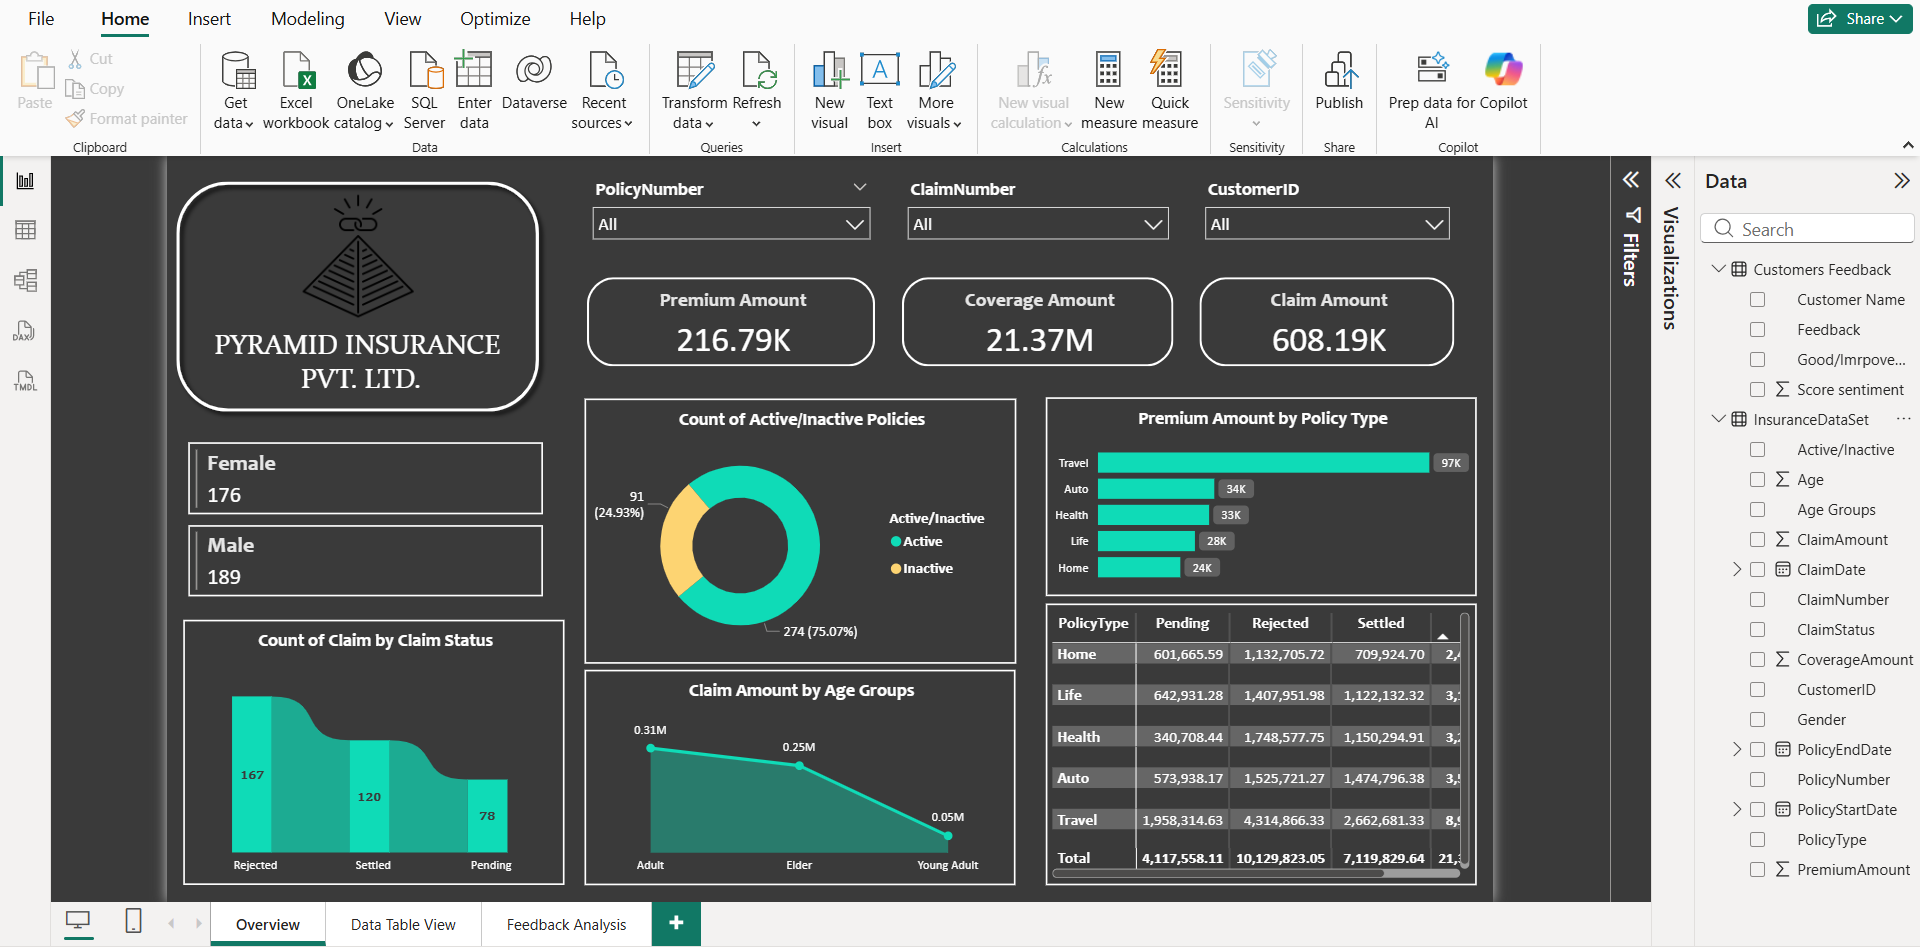

What the dashboard file says about the page in this screenshot:
{"tool":"powerbi","page":{"name":"Overview","canvas":[1280,720],"ordinal":0},"visuals":[{"type":"slicer","fields":{"Values":["InsuranceDataSet.PolicyNumber"]},"box":[400,16,288,80],"z":0},{"type":"slicer","fields":{"Values":["InsuranceDataSet.ClaimNumber"]},"box":[704,16,272,80],"z":1000},{"type":"slicer","fields":{"Values":["InsuranceDataSet.CustomerID"]},"box":[992,16,256,80],"z":2000},{"type":"image","box":[96,32,176,128],"z":3000},{"type":"shape","box":[0,16,368,240],"z":4000},{"type":"textbox","box":[16,160,336,80],"z":5000},{"type":"cardVisual","fields":{"Data":["Sum(InsuranceDataSet.PremiumAmount)"]},"box":[400,112,288,96],"z":6000},{"type":"cardVisual","fields":{"Data":["Sum(InsuranceDataSet.CoverageAmount)"]},"box":[704,112,272,96],"z":7000},{"type":"cardVisual","fields":{"Data":["Sum(InsuranceDataSet.ClaimAmount)"]},"box":[992,112,256,96],"z":8000},{"type":"multiRowCard","fields":{"Values":["InsuranceDataSet.Gender","CountNonNull(InsuranceDataSet.Gender)"]},"box":[16,272,352,176],"z":9000},{"type":"ribbonChart","title":"Count of Claim by Claim Status","fields":{"Category":["InsuranceDataSet.ClaimStatus"],"Y":["CountNonNull(InsuranceDataSet.ClaimStatus)"]},"box":[16,448,368,256],"z":10000},{"type":"barChart","title":"Premium Amount by Policy Type ","fields":{"Category":["InsuranceDataSet.PolicyType"],"Y":["Sum(InsuranceDataSet.PremiumAmount)"]},"box":[848,233,416,192],"z":11000},{"type":"lineChart","title":"Claim Amount by Age Groups","fields":{"Category":["InsuranceDataSet.Age Groups"],"Y":["Sum(InsuranceDataSet.ClaimAmount)"]},"box":[403,496,416,208],"z":12000},{"type":"donutChart","title":"Count of Active/Inactive Policies","fields":{"Category":["InsuranceDataSet.Active/Inactive"],"Y":["CountNonNull(InsuranceDataSet.Active/Inactive)"]},"box":[402.5,233.9,416.7,256],"z":13000},{"type":"pivotTable","fields":{"Values":["Sum(InsuranceDataSet.CoverageAmount)"],"Rows":["InsuranceDataSet.PolicyType"],"Columns":["InsuranceDataSet.ClaimStatus"]},"box":[848,432,416,272],"z":14000}]}

Visuals, with their boxes on the page's 1280x720 design canvas (x1, y1, x2, y2). These are canvas units, not pixel positions in the 1920x947 screenshot, which may show the page scaled, cropped or inside an application window:
slicer - InsuranceDataSet.PolicyNumber: region(400, 16, 688, 96)
slicer - InsuranceDataSet.ClaimNumber: region(704, 16, 976, 96)
slicer - InsuranceDataSet.CustomerID: region(992, 16, 1248, 96)
image: region(96, 32, 272, 160)
shape: region(0, 16, 368, 256)
textbox: region(16, 160, 352, 240)
cardVisual - Sum(InsuranceDataSet.PremiumAmount): region(400, 112, 688, 208)
cardVisual - Sum(InsuranceDataSet.CoverageAmount): region(704, 112, 976, 208)
cardVisual - Sum(InsuranceDataSet.ClaimAmount): region(992, 112, 1248, 208)
multiRowCard - InsuranceDataSet.Gender x CountNonNull(InsuranceDataSet.Gender): region(16, 272, 368, 448)
"Count of Claim by Claim Status" ribbonChart: region(16, 448, 384, 704)
"Premium Amount by Policy Type " barChart: region(848, 233, 1264, 425)
"Claim Amount by Age Groups" lineChart: region(403, 496, 819, 704)
"Count of Active/Inactive Policies" donutChart: region(402, 234, 819, 490)
pivotTable - Sum(InsuranceDataSet.CoverageAmount) x InsuranceDataSet.PolicyType: region(848, 432, 1264, 704)
